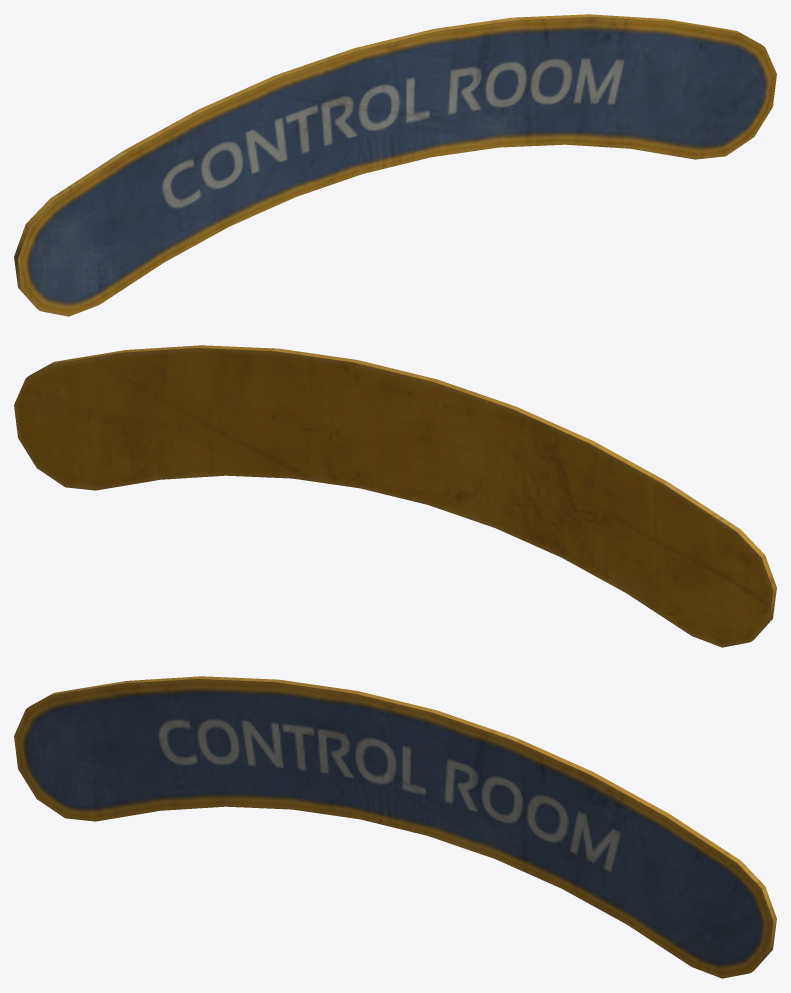
Rendered from phi_inside_sign_control_room.dae.
3 views of the same model, one above another, from view 1: azimuth 30°, elevation 25°; view 2: azimuth 150°, elevation 25°; view 3: azimuth 330°, elevation 25° (orthographic).
Visible parts, largest first — view 1: control_room; view 2: control_room; view 3: control_room.
Part boxes in pixels (x1=…): control_room: x1=14, y1=14, x2=776, y2=316; control_room: x1=14, y1=345, x2=776, y2=647; control_room: x1=14, y1=676, x2=776, y2=978.
Bounding box in the file's own units: 1.17 × 0.2881 × 0.00977.
